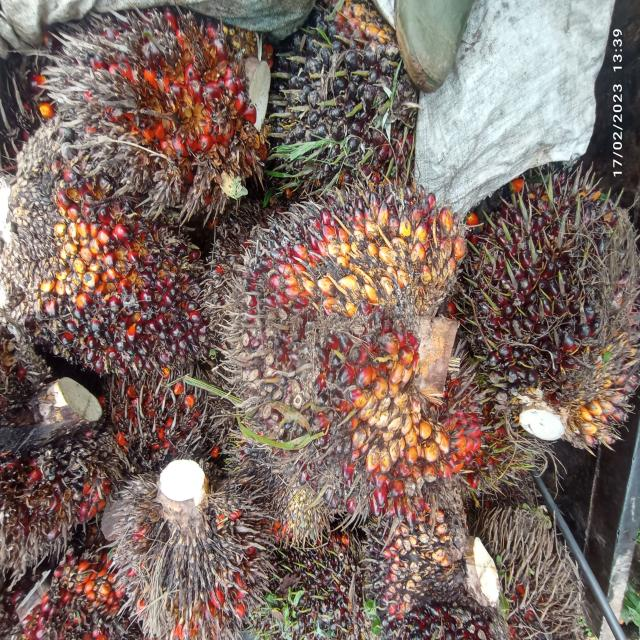fraksi 00: (207, 161, 475, 516), (467, 133, 640, 473), (2, 140, 208, 395), (275, 19, 398, 190), (338, 494, 476, 623)
fraksi 4: (53, 0, 269, 234)
